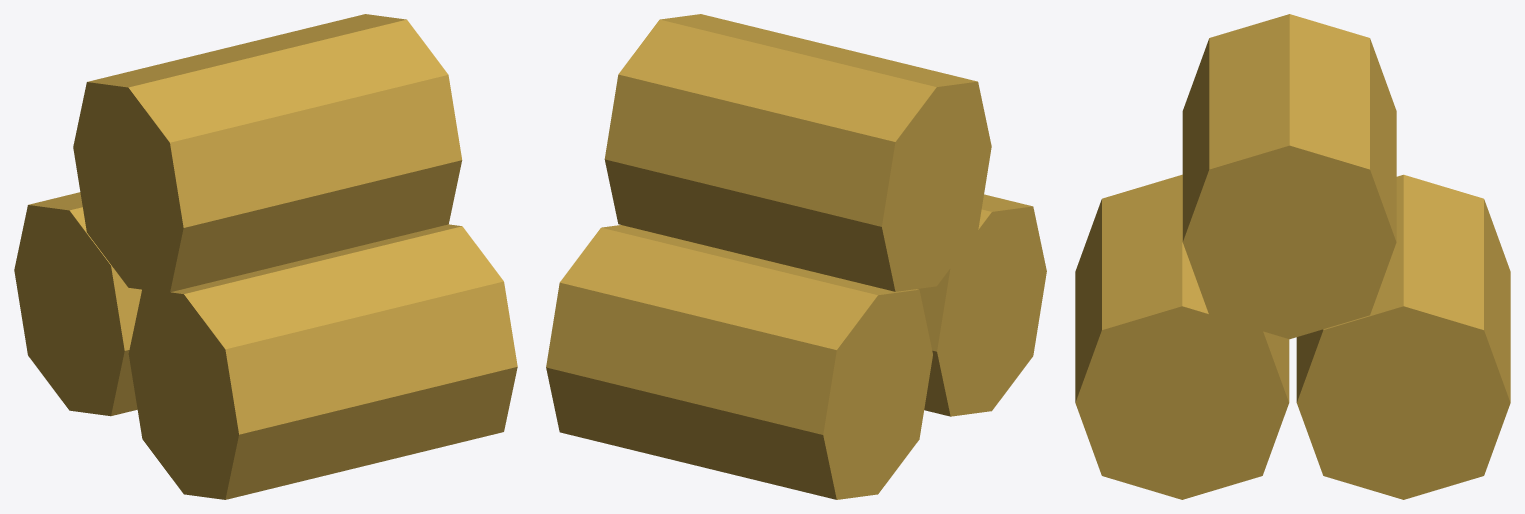
3 views of the same model, side by side, from view 1: azimuth 30°, elevation 25°; view 2: azimuth 150°, elevation 25°; view 3: azimuth 270°, elevation 25° (orthographic). The views are drawn at different scales.
Parts seen in each view (by area): view 1: Fardo; view 2: Fardo; view 3: Fardo.
Boxes of the visible parts, x1,y1,x2,y2 form: Fardo: (14, 14, 517, 499); Fardo: (546, 14, 1046, 499); Fardo: (1075, 14, 1510, 499).
Bounding box in the file's own units: 146 × 184 × 204.
